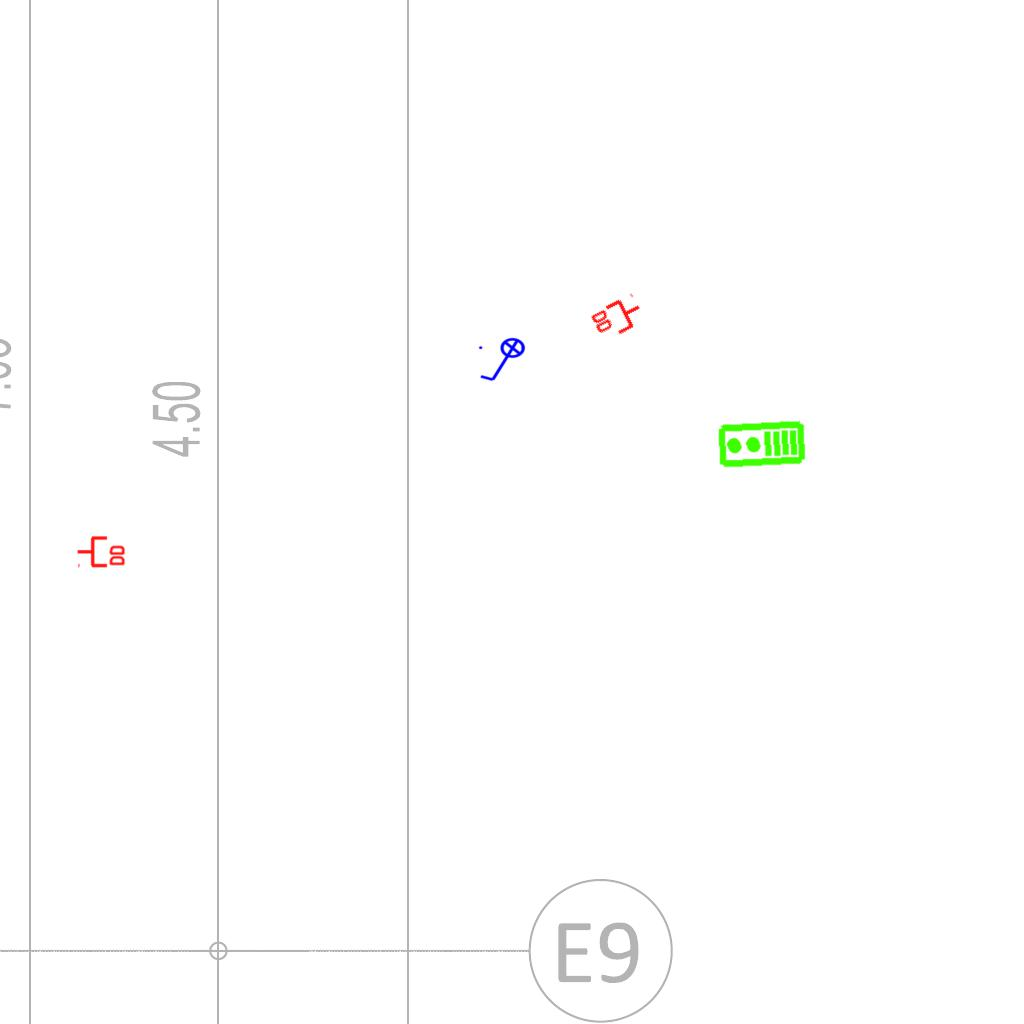Ausschalter_beleuchtet: (476, 337, 532, 385)
Datenanschluss_zweifach: (587, 291, 649, 346), (76, 534, 127, 568)
Gegensprechanlage_mit_Video: (716, 419, 807, 471)
